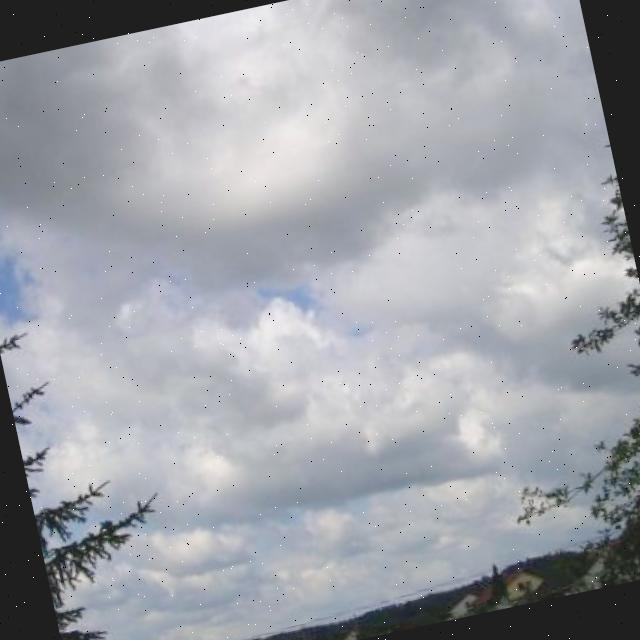Cu: (1, 1, 618, 313)
